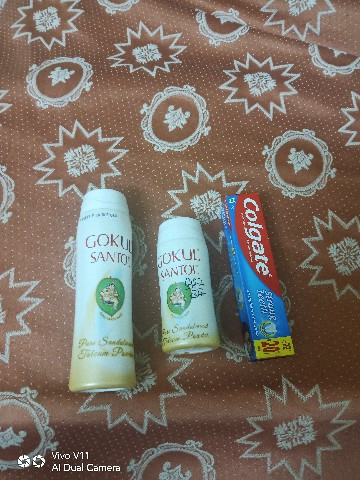colgatetoothpaste small: (216, 186, 310, 375)
gokulsantol big: (64, 179, 144, 407)
gokulsantol small: (151, 210, 226, 362)
